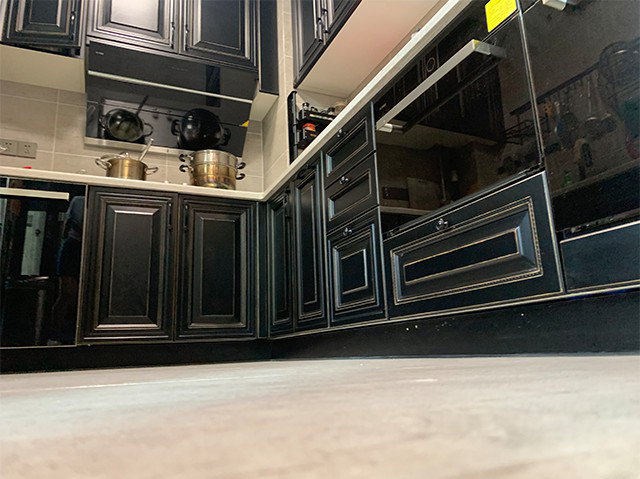cabinet: (262, 35, 640, 356), (1, 167, 266, 372)
